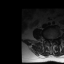CCS_normal: (50, 38, 51, 46)
LFS_severe_stenosis: (53, 37, 55, 42)
LLS_severe_stenosis: (52, 38, 53, 43)
RFS_severe_stenosis: (47, 38, 48, 42)
RLS_stenosis: (48, 38, 50, 43)
